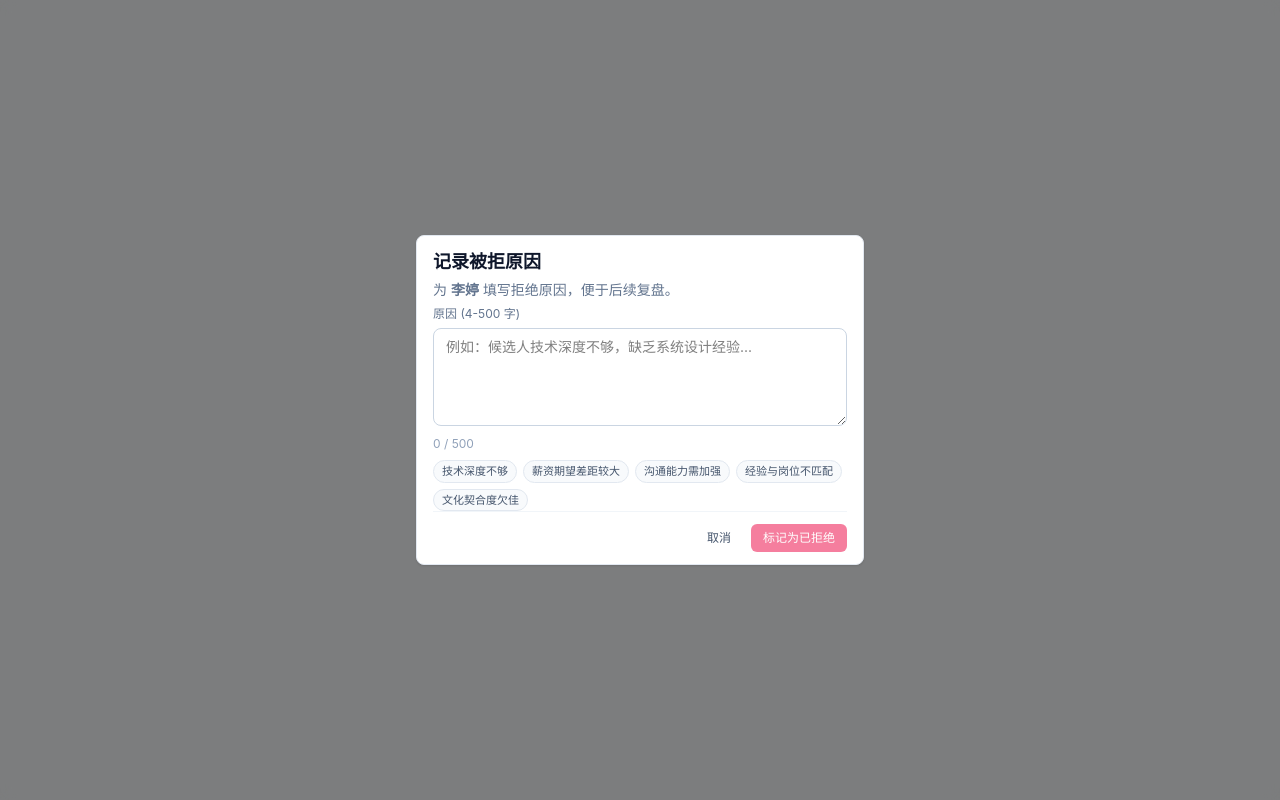
RejectReasonModal UI › shows an error message when the user types fewer than the minimum characters
Type "abc" into the text box with test id "reject-reason-textarea". click: (640, 377)
box: [433, 328, 847, 426]
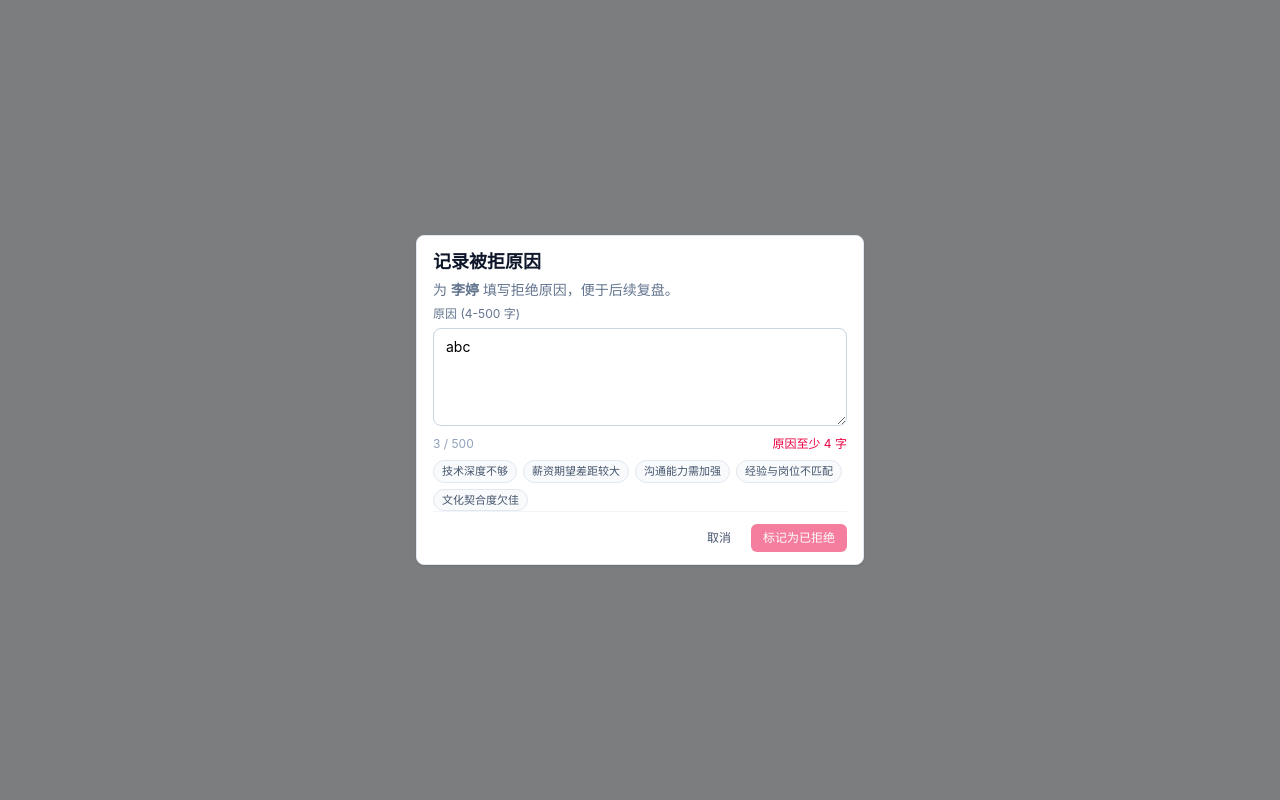
Result: the text "原因至少 4 字" is shown at [772, 436, 847, 452]
